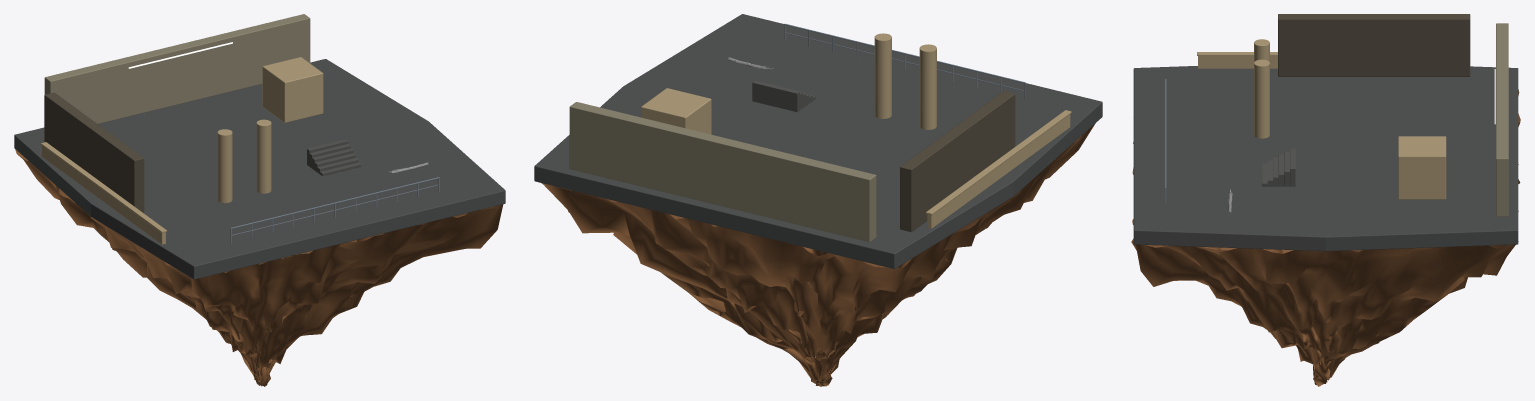
The picture shows the model from 3 angles, left to right: view 1: azimuth 30°, elevation 25°; view 2: azimuth 150°, elevation 25°; view 3: azimuth 270°, elevation 25°; orthographic projection. The views are drawn at different scales.
Visible parts, largest first — view 1: island_test; view 2: island_test; view 3: island_test.
Part boxes in pixels (bbox=[...]): island_test: bbox=[14, 14, 505, 386]; island_test: bbox=[534, 14, 1102, 386]; island_test: bbox=[1131, 14, 1520, 386].
Bounding box in the file's own units: 26.01 × 21.34 × 24.29.
